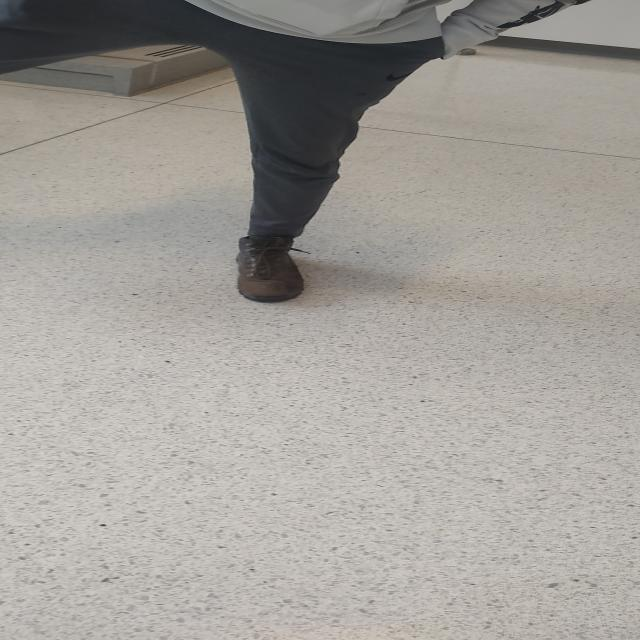Boots: (220, 229, 316, 302)
